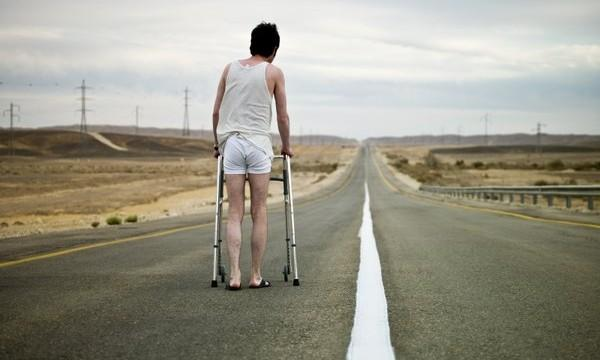walking_frame: (211, 21, 299, 290)
